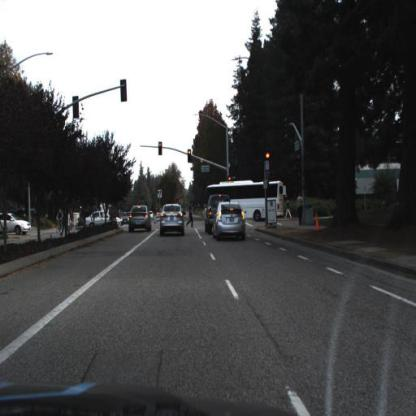biker: (56, 210, 66, 236), (56, 207, 65, 233)
car: (215, 202, 246, 240), (205, 195, 232, 235), (160, 203, 185, 237), (2, 211, 33, 238), (127, 203, 152, 232), (82, 212, 122, 230), (1, 213, 33, 234), (85, 213, 122, 229), (206, 203, 213, 237), (121, 213, 130, 229)
pedestrian: (297, 193, 305, 228), (296, 193, 303, 227), (188, 201, 196, 229), (285, 198, 293, 222)
trafficLight-Red: (266, 149, 271, 165), (266, 151, 271, 166), (188, 149, 193, 163), (189, 150, 193, 162), (229, 176, 234, 184), (228, 177, 233, 182)
trafficLight-RedLeft: (158, 141, 163, 157)
truck: (211, 185, 283, 216)
